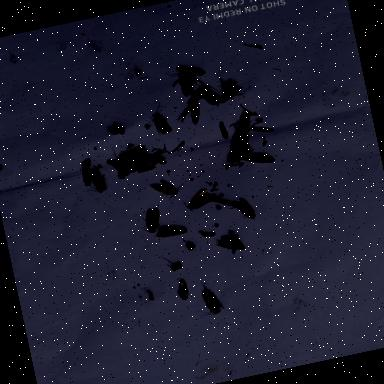pbw: (188, 276, 229, 320), (182, 79, 230, 113), (146, 173, 188, 205), (166, 66, 203, 102), (225, 194, 263, 227), (180, 186, 221, 216), (145, 99, 175, 138), (116, 156, 156, 184), (216, 68, 247, 103), (138, 205, 168, 240), (228, 108, 262, 138), (132, 144, 170, 170), (82, 164, 112, 196), (240, 146, 277, 170), (176, 97, 204, 128), (223, 142, 259, 166), (152, 220, 190, 242), (173, 59, 208, 82), (226, 132, 255, 158), (113, 144, 152, 163), (76, 155, 97, 190), (174, 274, 195, 302)
